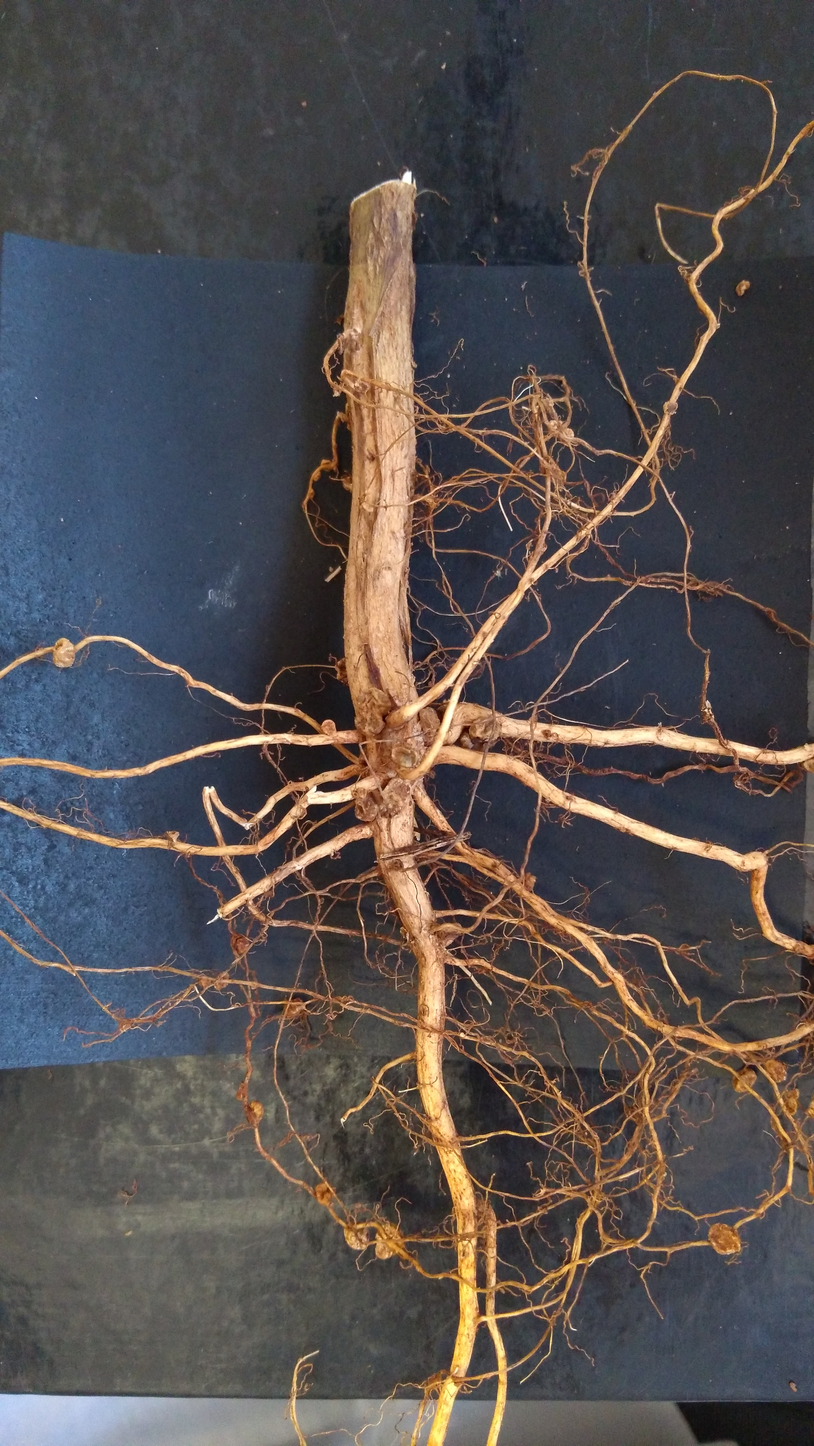nodule: (351, 685, 395, 738), (702, 1217, 748, 1265), (371, 1219, 408, 1262), (377, 777, 414, 820), (47, 633, 82, 671), (414, 704, 444, 748), (536, 453, 569, 491), (466, 712, 503, 743), (338, 1219, 371, 1252), (351, 786, 378, 825), (730, 1065, 757, 1096), (389, 745, 420, 771), (437, 921, 463, 951), (760, 1056, 783, 1088), (314, 1177, 336, 1206), (318, 715, 341, 742), (248, 1096, 265, 1127), (212, 969, 234, 992), (522, 870, 541, 896), (733, 277, 754, 300), (282, 996, 304, 1016), (334, 657, 349, 686), (458, 731, 478, 751), (235, 936, 252, 956), (163, 828, 184, 844), (340, 473, 356, 493), (550, 418, 565, 438), (560, 426, 575, 444), (320, 458, 334, 473), (784, 1086, 800, 1099), (313, 469, 326, 484), (665, 401, 680, 413), (787, 1097, 797, 1115), (356, 787, 369, 799), (307, 487, 318, 500), (352, 791, 360, 799)
